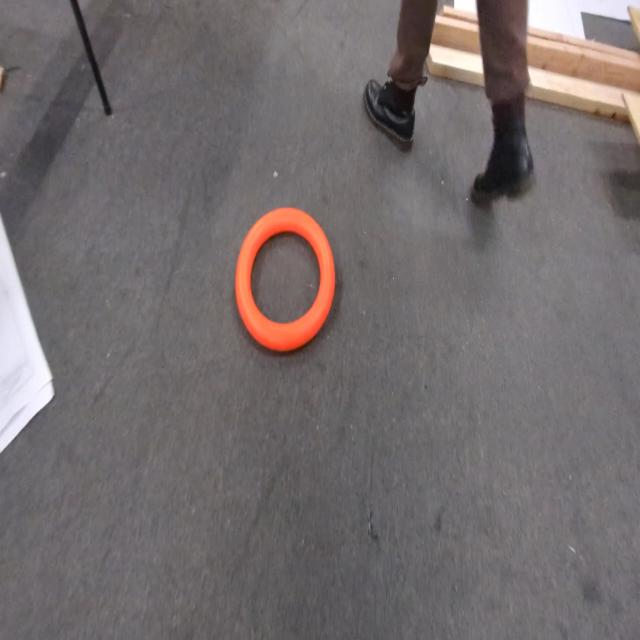note: (236, 211, 336, 351)
